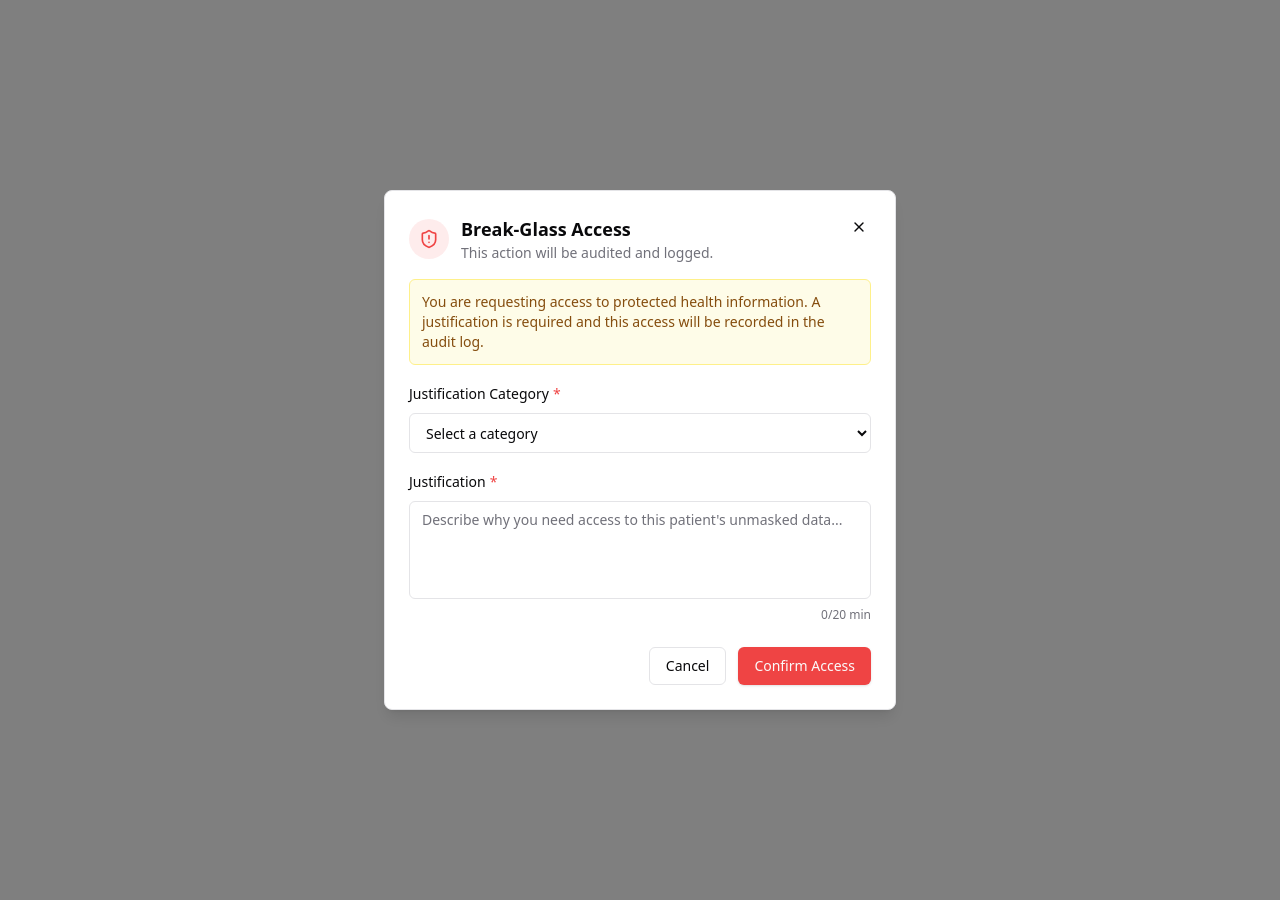
Test: BreakGlassModal › enforces minimum 20 character justification
The width and height of the screenshot is (1280, 900).
Note: Select a category
Select "Emergency" in the dropdown: coordinates (640, 433) [409, 413, 871, 453]
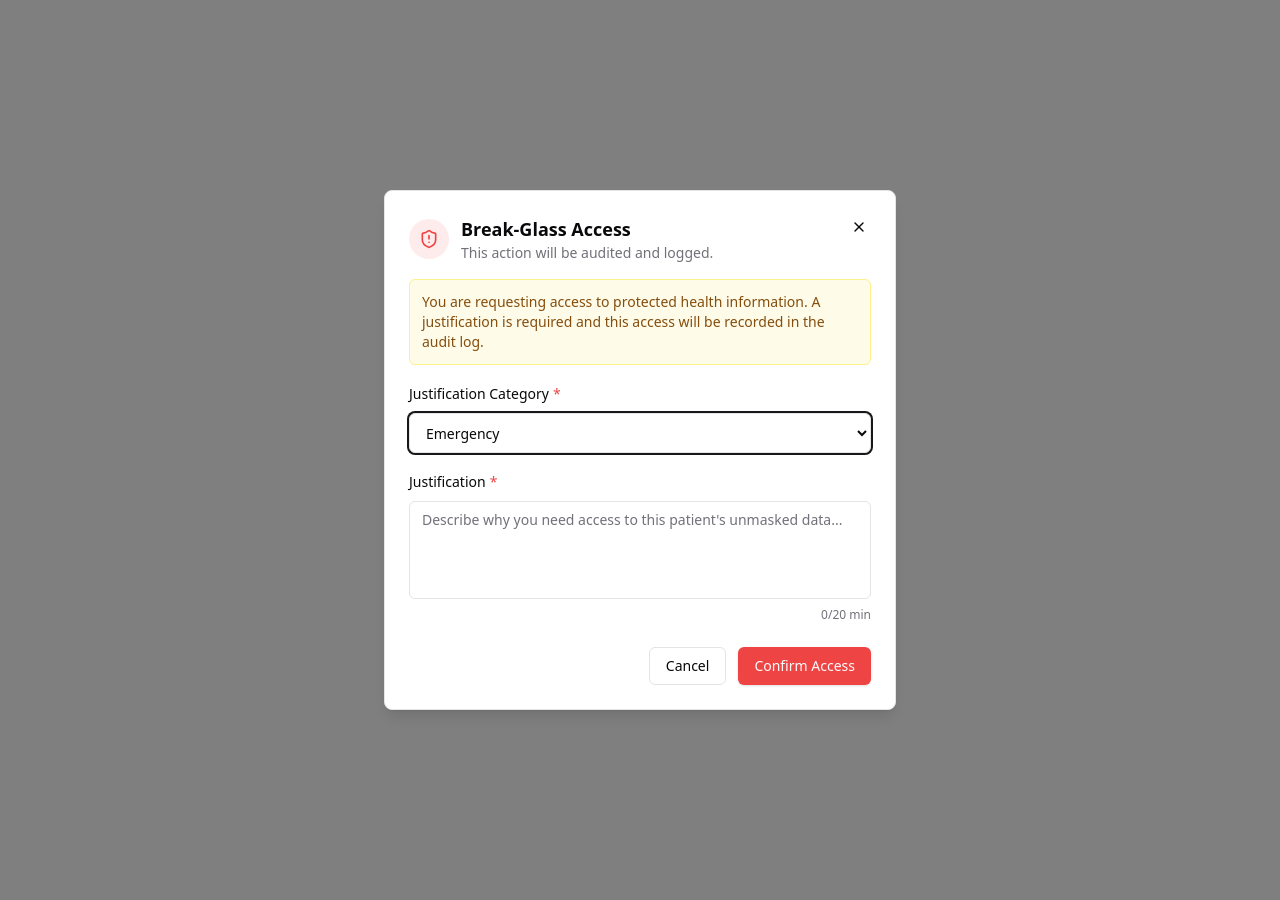
Note: Type a short justification
In the text box with placeholder "Describe why you need access": coordinates (640, 550) [409, 501, 871, 599], type "too short"
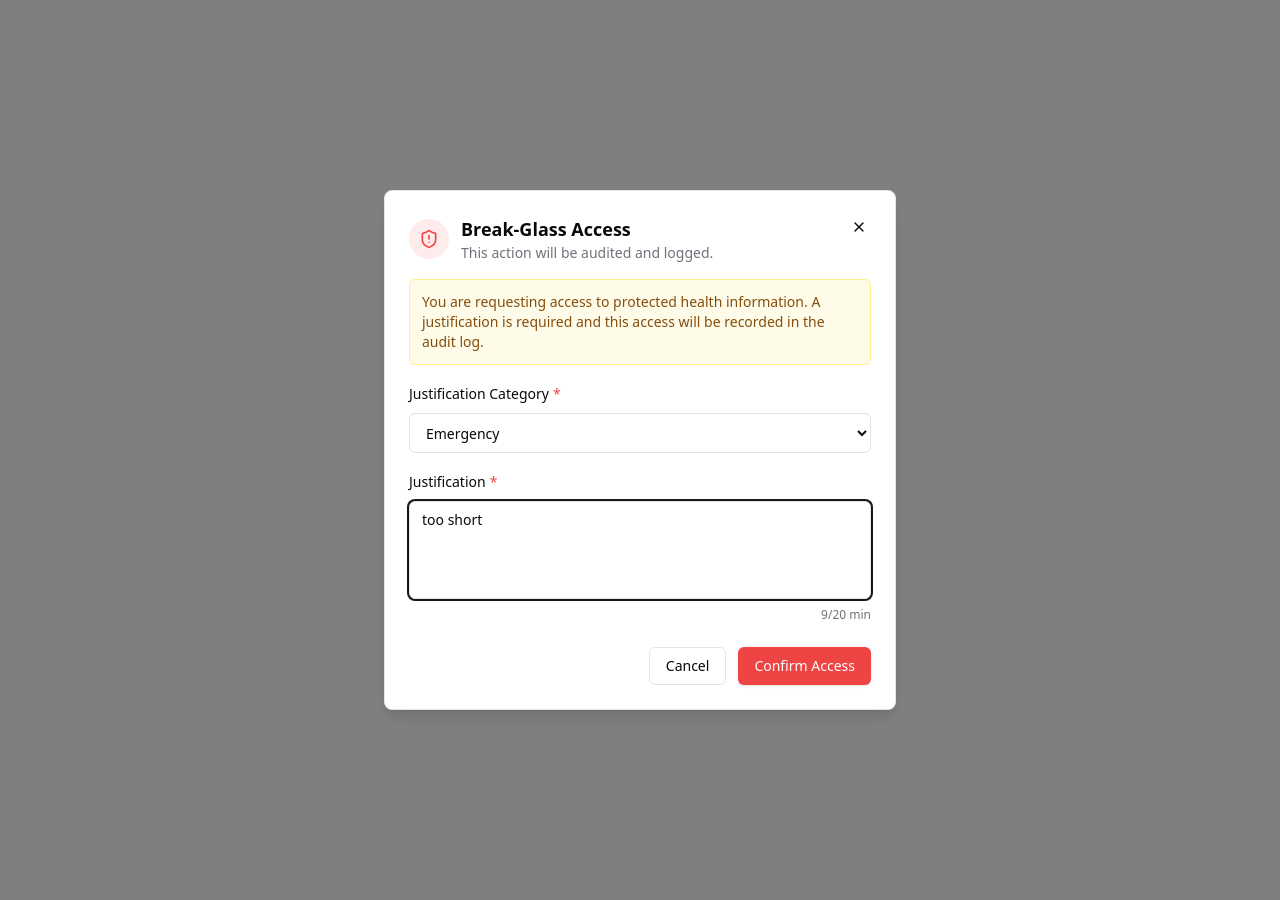
Click the button "Confirm Access": coordinates (805, 666) [738, 647, 871, 685]
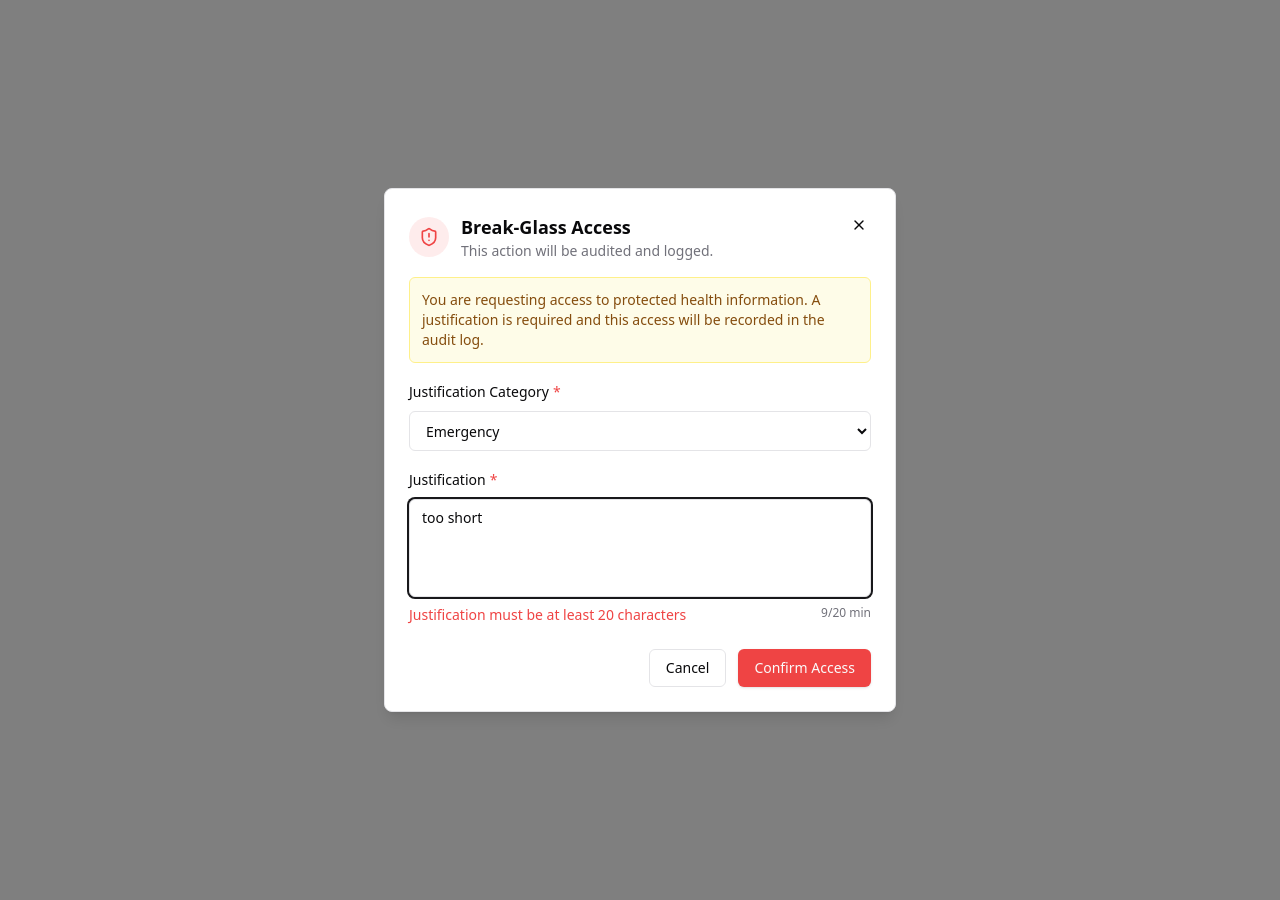
Expected: the text "Justification must be at least 20 characters" is shown, [409, 605, 686, 625]
